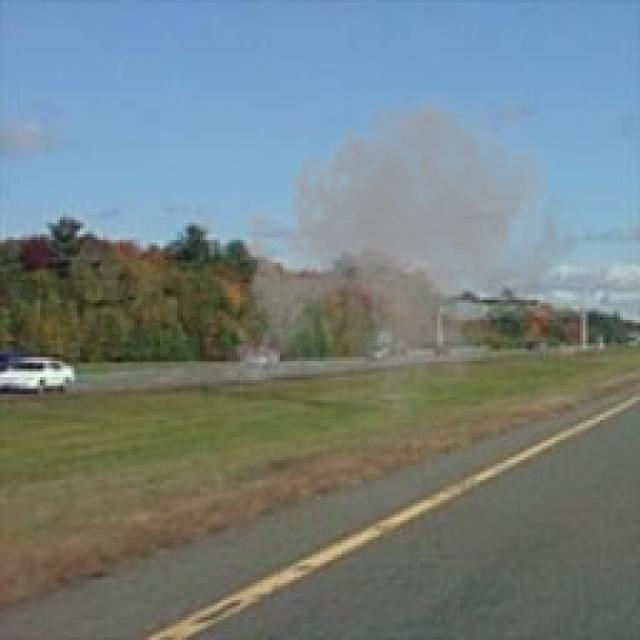smoke: (223, 80, 583, 443)
